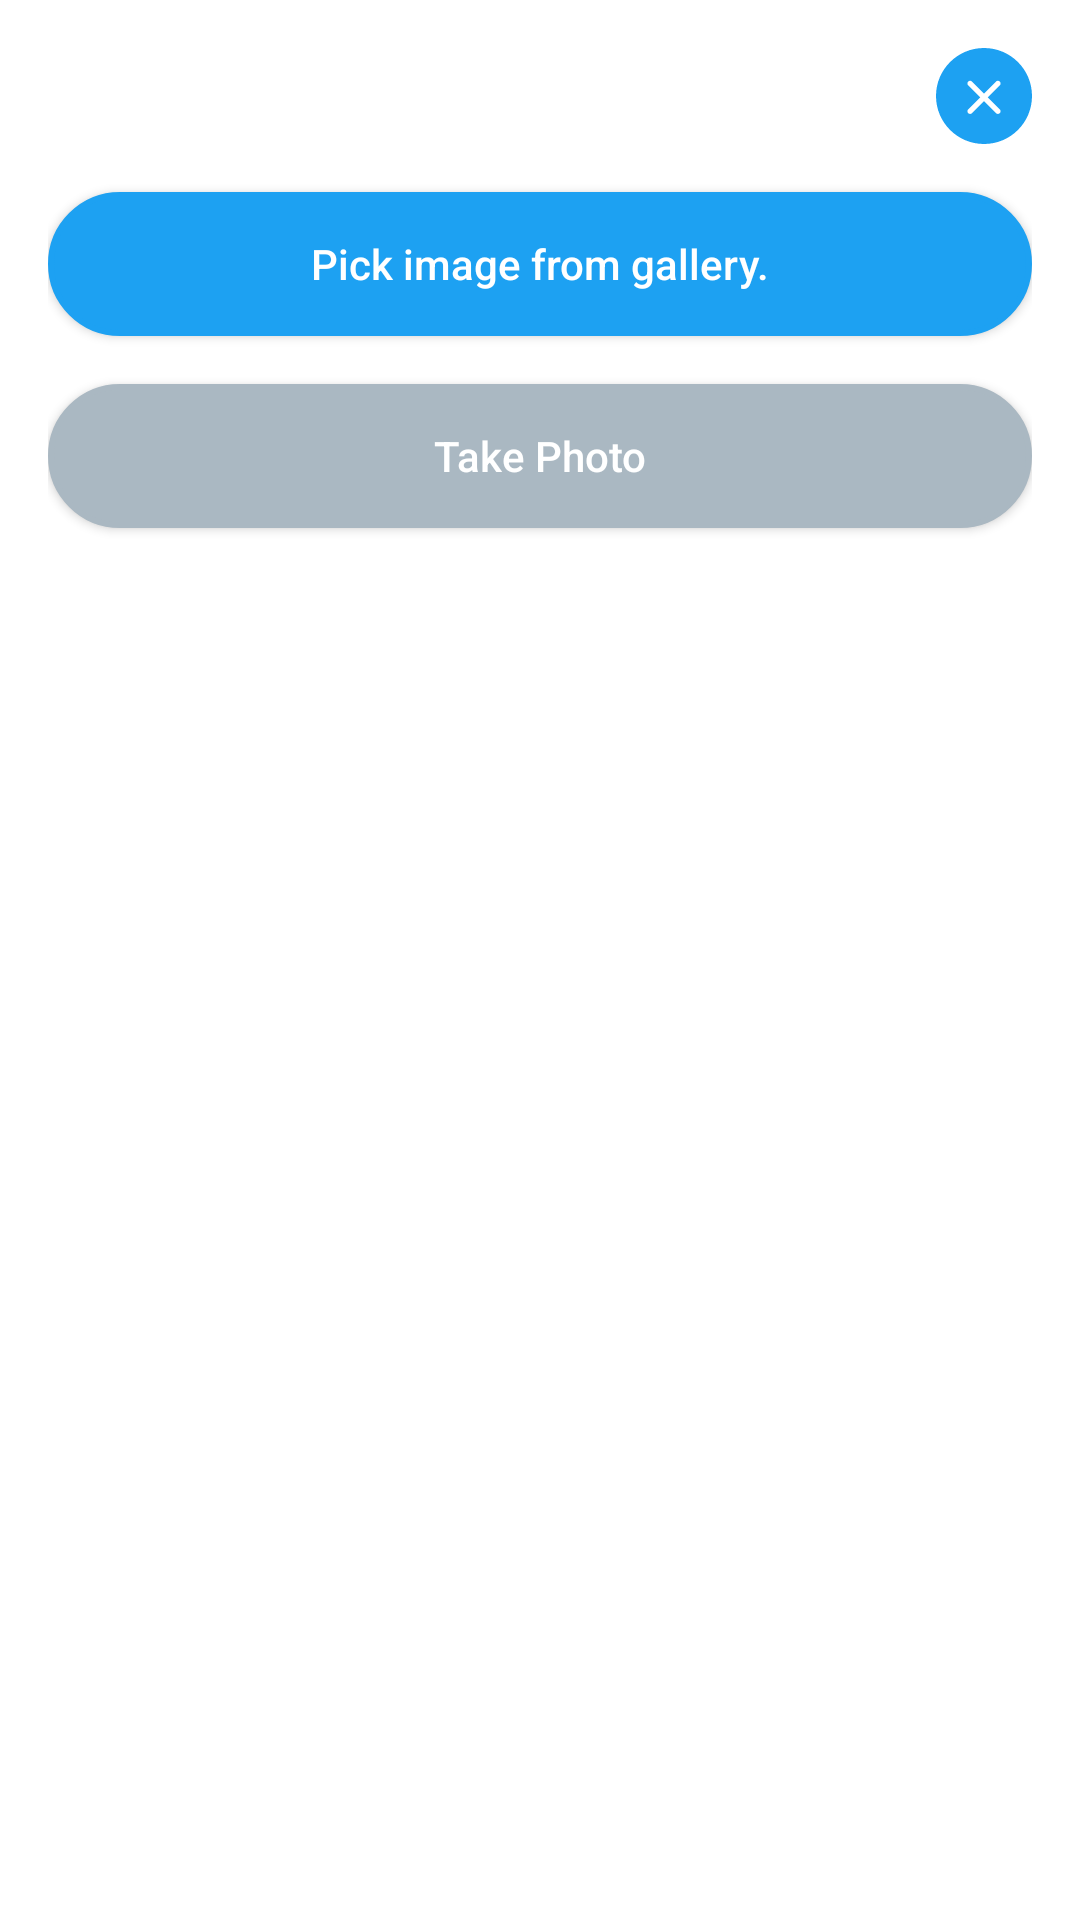

Screen size 1080 x 1920. Icon name, then its box in pixels as (left=x1, top=y1, right=x2, bottom=y2):
close: (left=936, top=48, right=1032, bottom=144)
